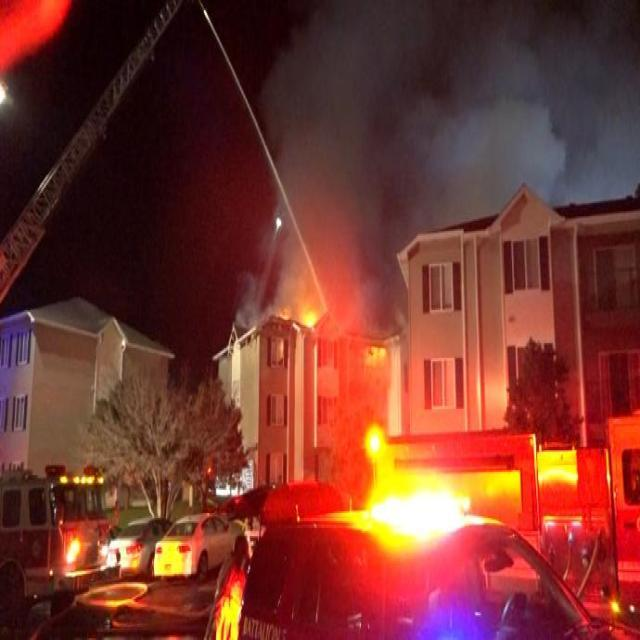Smoke: (299, 17, 633, 192)
